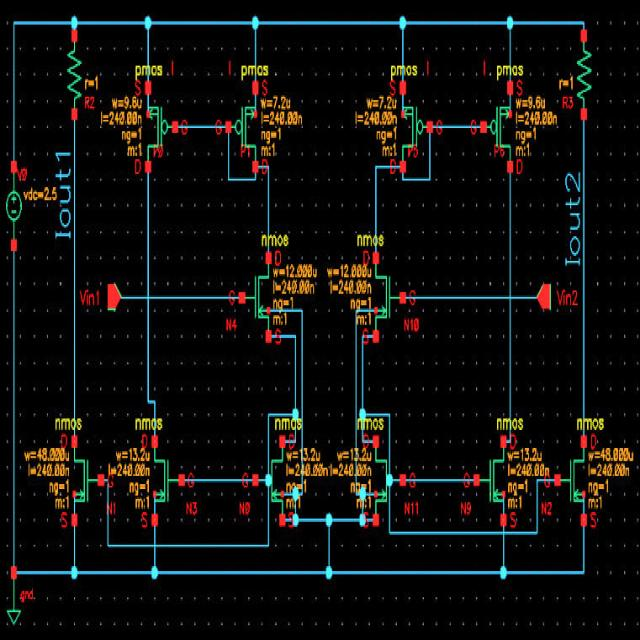nmos: (354, 230, 408, 348), (133, 416, 186, 530), (358, 413, 410, 529), (56, 414, 104, 528), (472, 415, 511, 530), (252, 416, 289, 536), (238, 231, 274, 342), (554, 417, 590, 526)
pmos: (135, 64, 180, 175), (390, 60, 432, 178), (225, 62, 260, 175), (478, 64, 514, 172)
res: (573, 28, 601, 126), (63, 28, 83, 124)
vdc: (4, 158, 28, 252)
